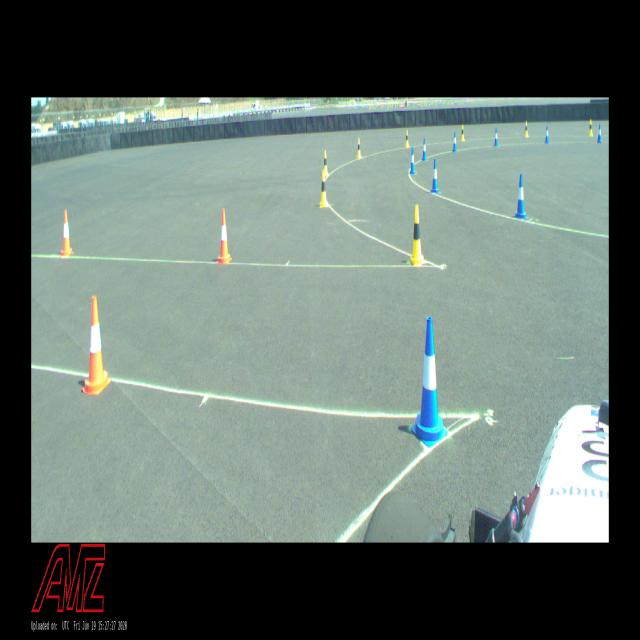blue_cone: (411, 317, 447, 447), (514, 174, 528, 219), (431, 158, 439, 194), (410, 147, 416, 174), (452, 132, 458, 152), (422, 138, 427, 160), (545, 125, 549, 144), (598, 124, 602, 143), (494, 128, 498, 146)
orange_cone: (81, 296, 112, 395), (217, 209, 232, 264), (60, 209, 74, 256)
yellow_cone: (407, 205, 425, 265), (318, 171, 329, 208), (322, 150, 328, 176), (356, 138, 362, 158), (524, 121, 529, 137), (460, 125, 465, 141), (405, 130, 409, 148), (589, 119, 593, 136)
